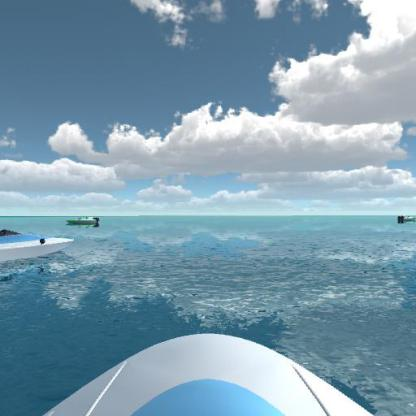usv0: (68, 212, 100, 231), (397, 211, 415, 229)
usv1: (0, 227, 80, 273)
